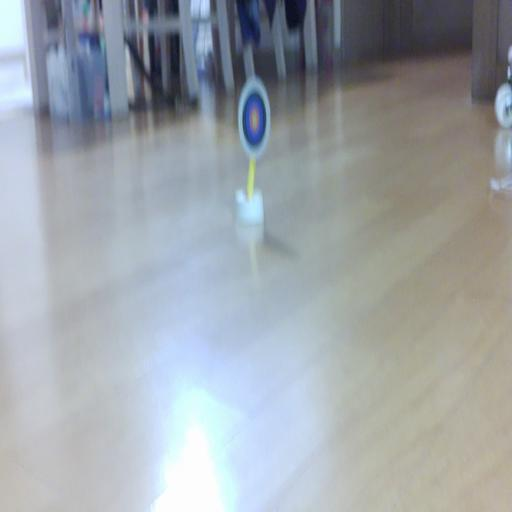target: (239, 76, 270, 160)
